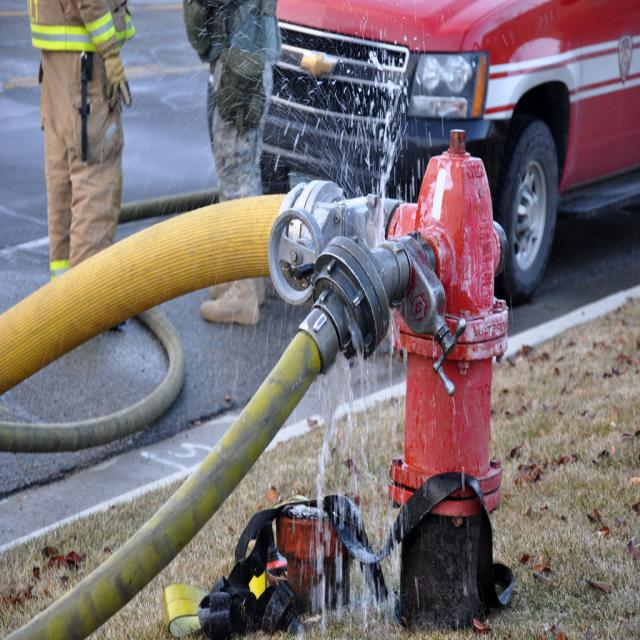no_fire: (217, 55, 539, 613)
